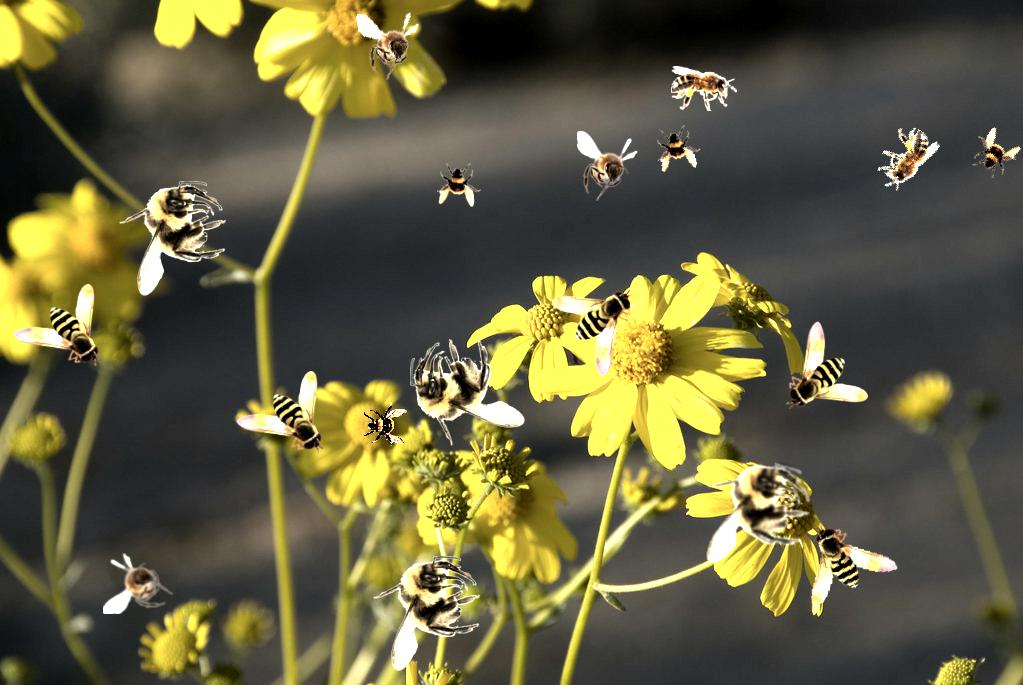Bee: (686, 445, 821, 586), (410, 339, 525, 446), (373, 556, 480, 671), (119, 181, 226, 296), (803, 522, 903, 618), (786, 321, 868, 409), (552, 289, 634, 377), (236, 371, 324, 453), (13, 284, 101, 366), (868, 119, 942, 200), (355, 4, 428, 84), (103, 553, 173, 614), (577, 131, 638, 201), (963, 122, 1023, 184), (671, 66, 737, 111), (651, 122, 705, 176), (363, 402, 407, 446), (437, 163, 481, 207)
